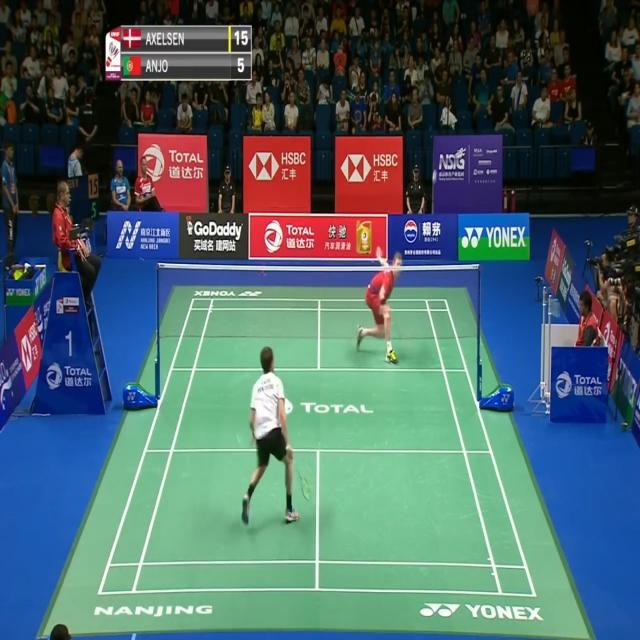Player1: (239, 341, 313, 531)
Player2: (354, 242, 406, 368)
